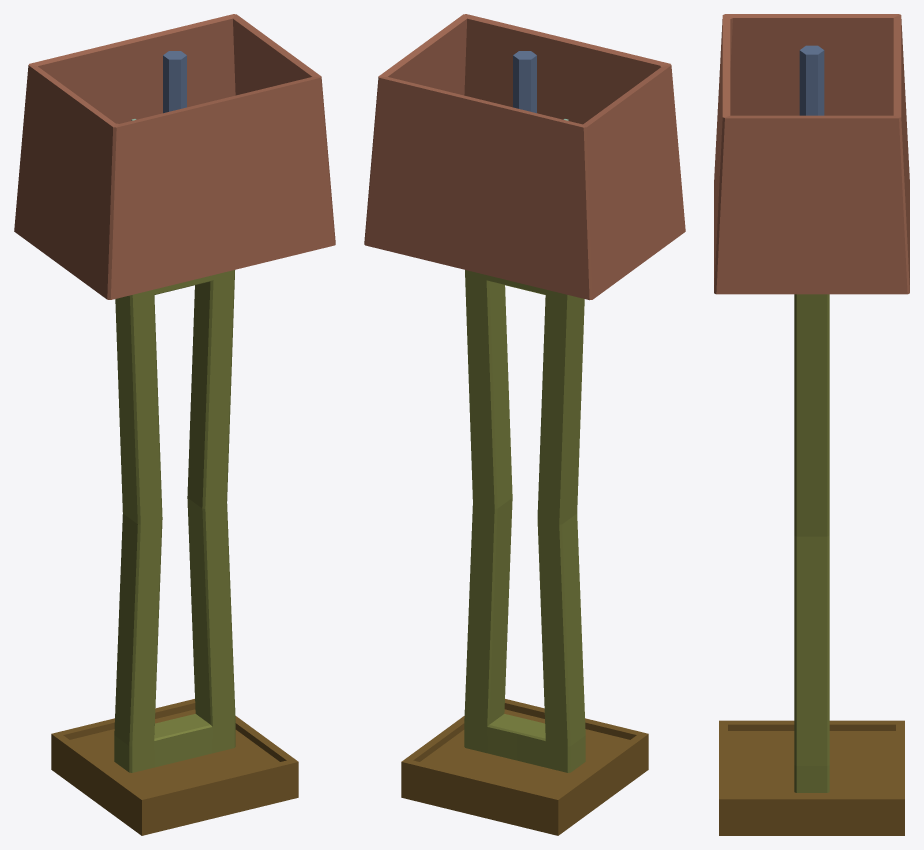
The model's file is lampaPOL.fbx.
3 views of the same model, side by side, from view 1: azimuth 30°, elevation 25°; view 2: azimuth 150°, elevation 25°; view 3: azimuth 270°, elevation 25° (orthographic). The views are drawn at different scales.
Visible parts, largest first — view 1: Cylinder.003, Cylinder.002, Cylinder.004, Cylinder.001; view 2: Cylinder.003, Cylinder.002, Cylinder.004, Cylinder.001; view 3: Cylinder.003, Cylinder.004, Cylinder.002, Cylinder.001.
Boxes of the visible parts, <box> form: Cylinder.003: <box>14,14,335,299</box>; Cylinder.002: <box>114,270,235,772</box>; Cylinder.004: <box>51,699,298,835</box>; Cylinder.001: <box>163,51,186,113</box>; Cylinder.003: <box>364,14,685,300</box>; Cylinder.002: <box>464,270,585,772</box>; Cylinder.004: <box>401,699,648,835</box>; Cylinder.001: <box>513,51,536,113</box>; Cylinder.003: <box>714,14,909,294</box>; Cylinder.004: <box>719,720,904,835</box>; Cylinder.002: <box>794,294,829,792</box>; Cylinder.001: <box>799,45,824,115</box>.
Size of the model in its own units: 44.15 by 135 by 31.99.
